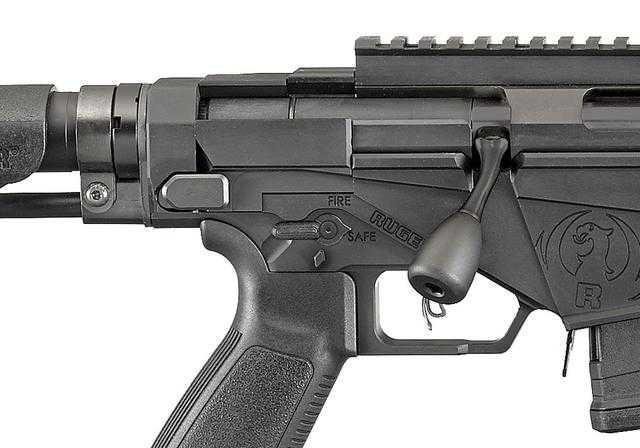heavyweapon: (0, 24, 640, 448)
